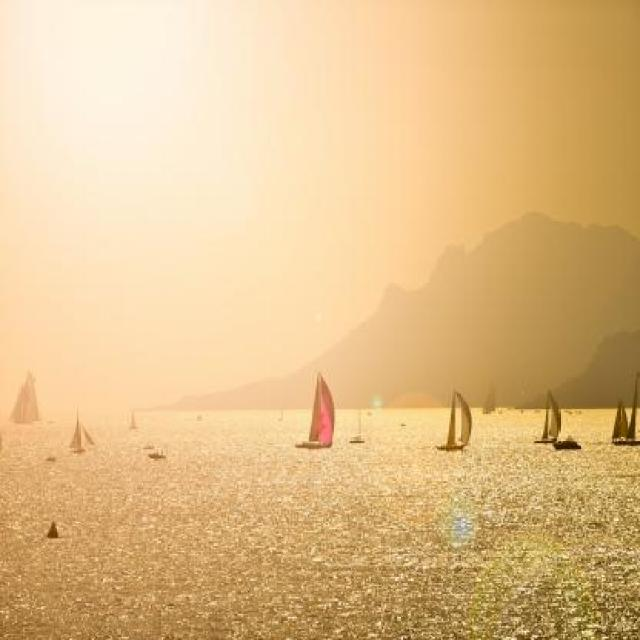ship: (292, 371, 336, 447), (434, 390, 471, 448), (611, 369, 638, 445), (7, 372, 41, 423), (532, 389, 558, 442), (67, 409, 95, 453), (348, 406, 364, 443), (481, 378, 497, 414), (125, 411, 138, 429), (146, 451, 166, 458)
